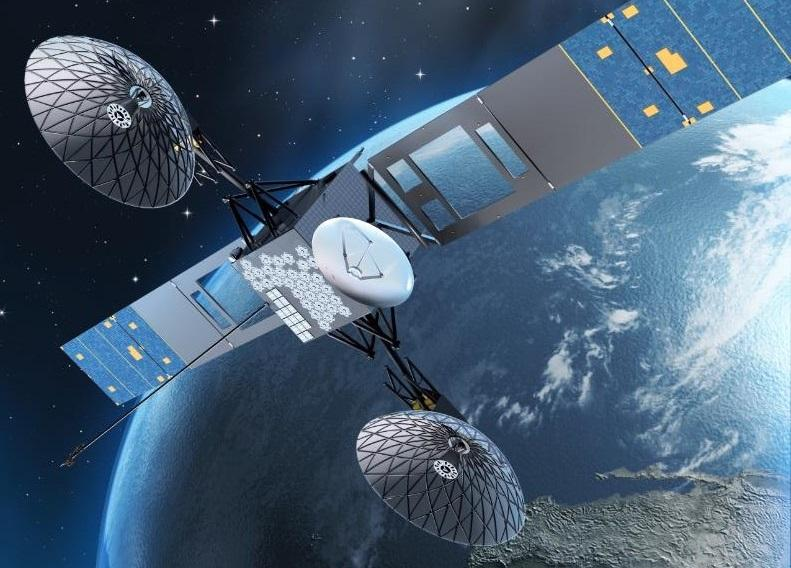antenna: (56, 296, 273, 472), (21, 33, 198, 211), (354, 407, 529, 548), (311, 214, 416, 309), (281, 252, 295, 266), (259, 252, 272, 265), (262, 264, 275, 277), (298, 269, 311, 282), (273, 255, 285, 269), (251, 280, 265, 292), (329, 294, 343, 306), (317, 320, 331, 332), (296, 246, 309, 258), (274, 267, 287, 279), (312, 272, 325, 284), (296, 279, 309, 291), (321, 284, 334, 296), (296, 260, 310, 271), (300, 299, 314, 310), (240, 259, 252, 271), (253, 267, 265, 279), (244, 270, 256, 282), (270, 276, 283, 287), (261, 278, 274, 289), (283, 278, 296, 289), (291, 288, 304, 299), (317, 293, 330, 304), (339, 306, 352, 317), (322, 311, 335, 322), (308, 258, 320, 269), (286, 269, 298, 280), (309, 283, 321, 294), (305, 290, 317, 301), (310, 309, 322, 320), (314, 303, 327, 313), (326, 304, 339, 314)
body: (228, 159, 425, 344)
solar: (366, 0, 791, 247), (56, 231, 290, 409)
